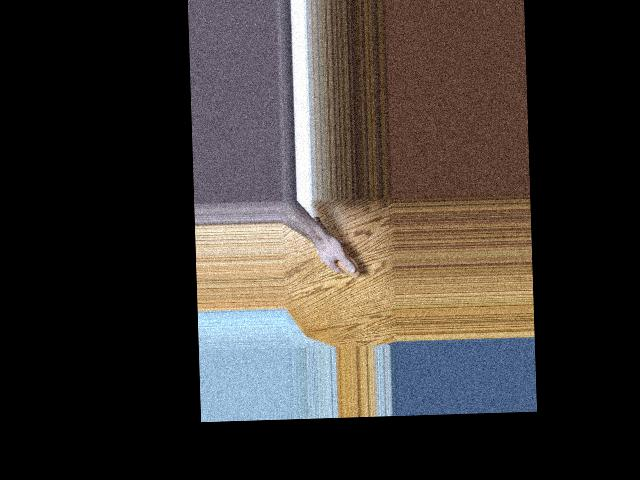sweet_potato: (312, 213, 360, 279)
